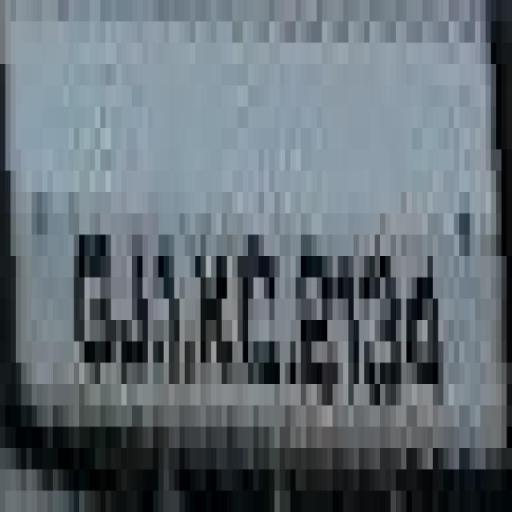number plate: (0, 21, 496, 491)
